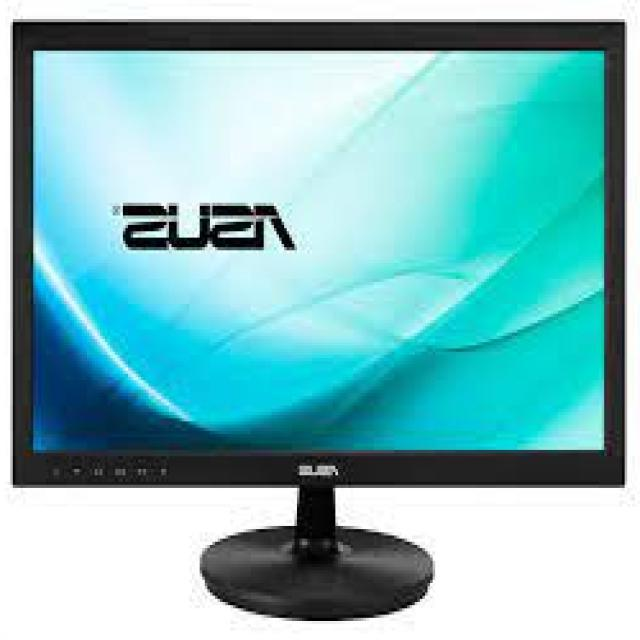monitor: (0, 6, 634, 640)
